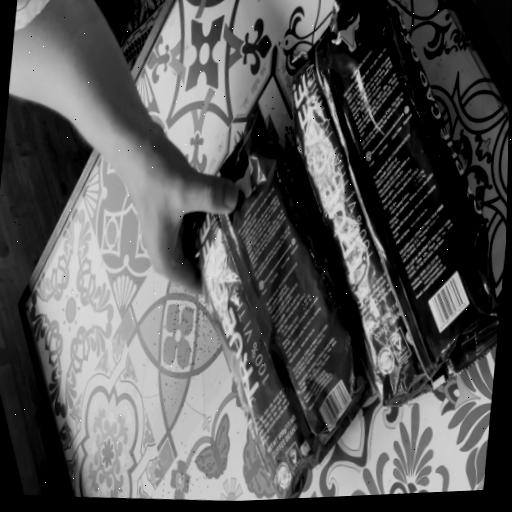cafe_hat: (291, 0, 500, 405)
cafe_xay: (199, 106, 372, 499)
